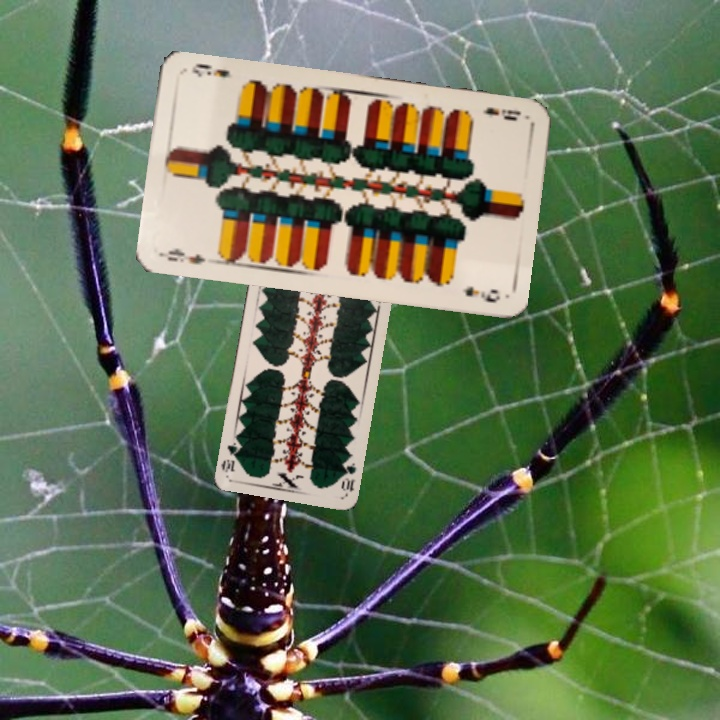E9: (158, 244, 208, 267), (478, 103, 523, 124)
G10: (337, 459, 358, 496)
